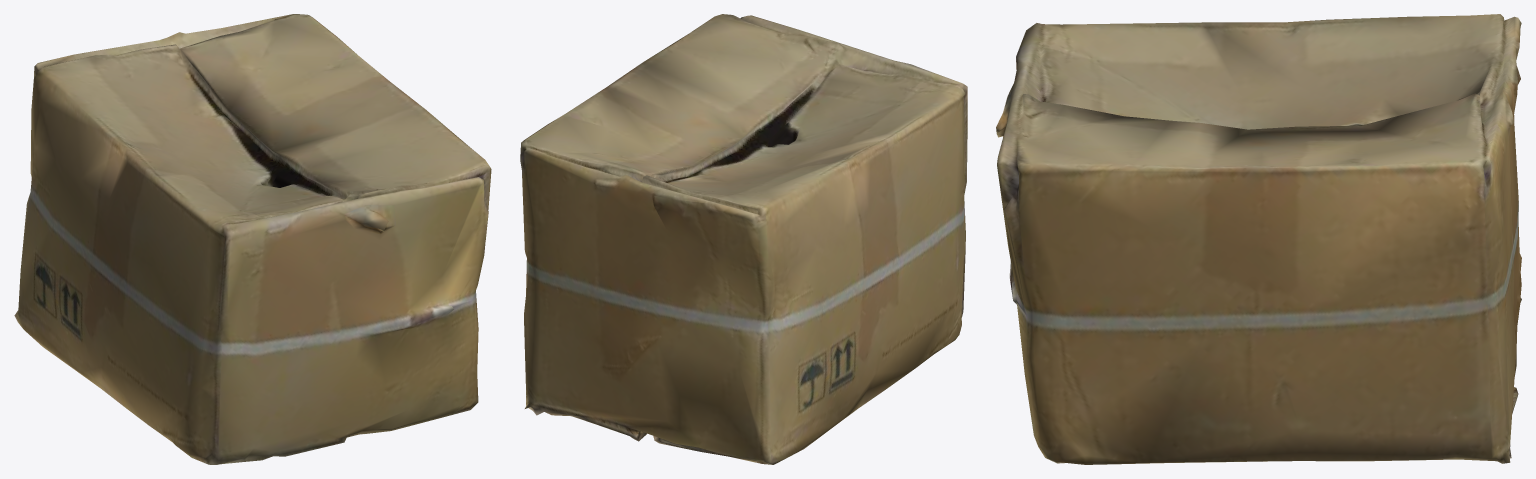
File: cardboard_box_01.glb
3 renders of one model, left to right at view 1: azimuth 30°, elevation 25°; view 2: azimuth 150°, elevation 25°; view 3: azimuth 270°, elevation 25°, orthographic. The views are drawn at different scales.
Visible parts, largest first — view 1: cardboard_box_01; view 2: cardboard_box_01; view 3: cardboard_box_01.
Boxes of the visible parts, x1,y1,x2,y2 form: cardboard_box_01: [14, 14, 491, 464]; cardboard_box_01: [520, 14, 967, 464]; cardboard_box_01: [996, 14, 1521, 464].
Size of the model in its own units: 0.3861 by 0.3407 by 0.5159.
Materials: 1 (1 with a texture image).
